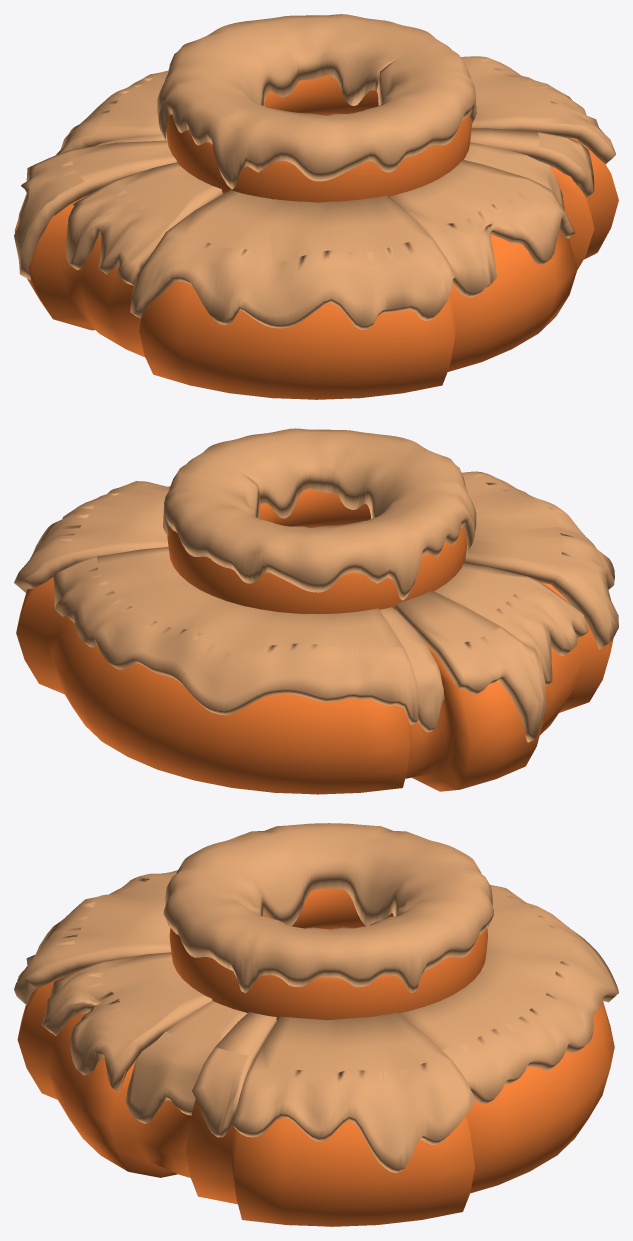
File: old_fashioned.fbx
The picture shows the model from 3 angles, top to bottom: view 1: azimuth 30°, elevation 25°; view 2: azimuth 150°, elevation 25°; view 3: azimuth 270°, elevation 25°; orthographic projection. The views are drawn at different scales.
Visible parts, largest first — view 1: old fashioned.001; view 2: old fashioned.001; view 3: old fashioned.001.
Boxes of the visible parts, x1,y1,x2,y2 form: old fashioned.001: [14, 14, 618, 399]; old fashioned.001: [14, 428, 618, 794]; old fashioned.001: [14, 823, 618, 1226].
Bounding box in the file's own units: 252 × 107 × 237.
